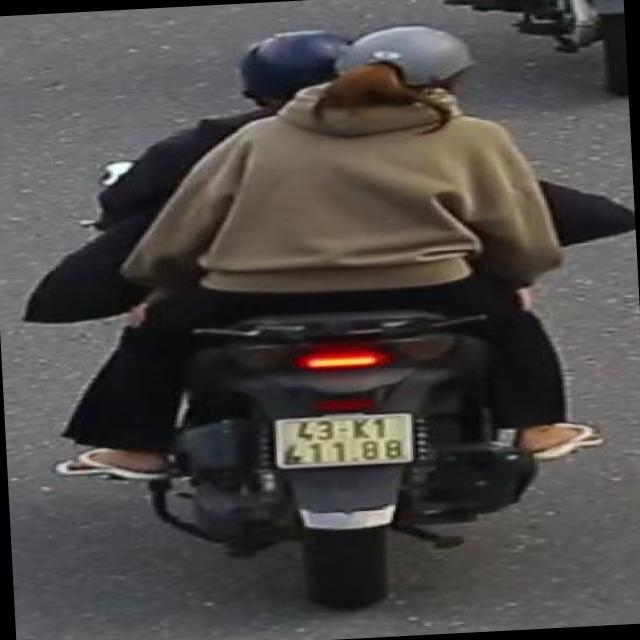LP: (268, 408, 421, 472)
helmet: (308, 18, 492, 132)
